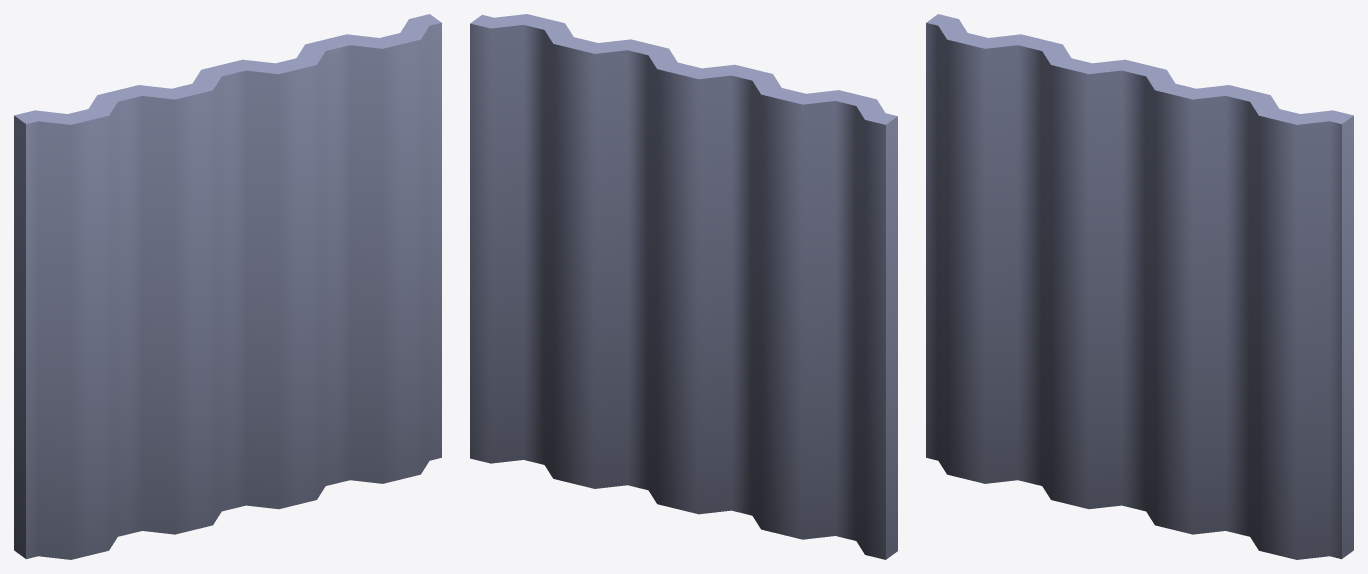
Rendered from metal-panel.glb.
3 renders of one model, left to right at view 1: azimuth 30°, elevation 25°; view 2: azimuth 150°, elevation 25°; view 3: azimuth 330°, elevation 25°, orthographic.
Parts seen in each view (by area): view 1: metal-panel; view 2: metal-panel; view 3: metal-panel.
Part boxes in pixels (bbox=[...]): metal-panel: bbox=[14, 14, 441, 559]; metal-panel: bbox=[470, 14, 897, 559]; metal-panel: bbox=[926, 14, 1353, 559].
Size of the model in its own units: 0.5 by 0.5 by 0.05.
